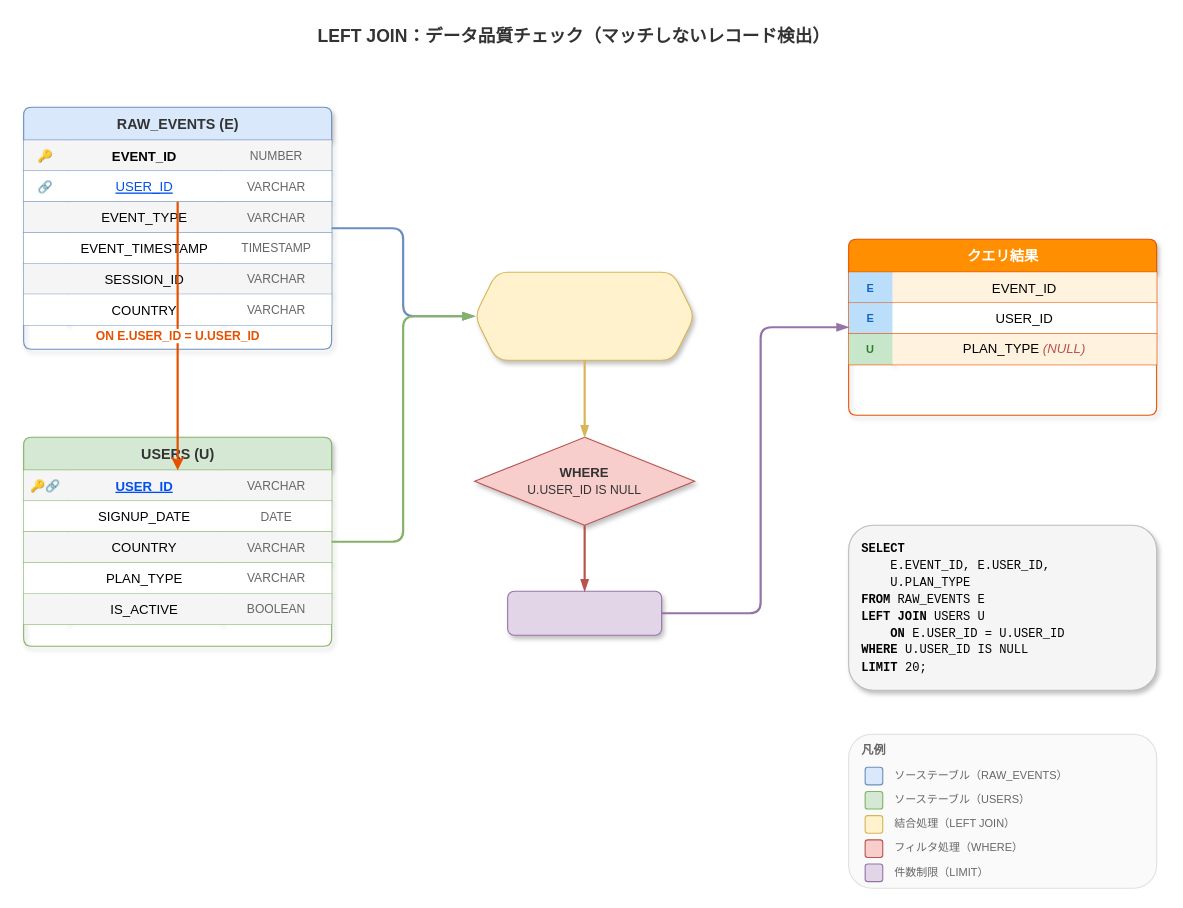
Image size: 1183x908. Some labels were removed from this diagram. The shapes that lost their labels are listed below. From the top down, each one's centre as x and y in pixels, then its label:
At point 585,317: "LEFT JOIN 左テーブルの全レコード +右テーブルのマッチ結果".
At point 585,614: "LIMIT 20".
